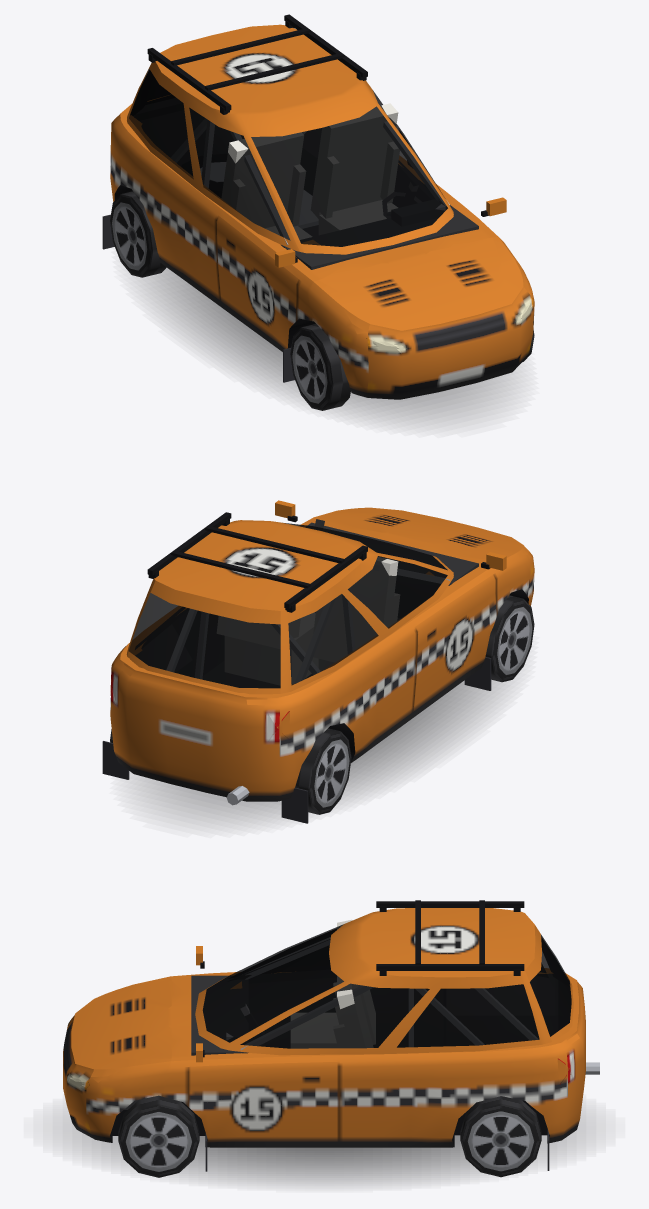
Rendered from pacoca.glb.
The picture shows the model from 3 angles, top to bottom: view 1: azimuth 30°, elevation 25°; view 2: azimuth 150°, elevation 25°; view 3: azimuth 270°, elevation 25°; orthographic projection. The views are drawn at different scales.
Visible parts, largest first — view 1: Carroceria, Interior, Capo_malha, Sombra, Porta_D_malha, Roda_DD, Roda_TD, Tampa_malha, Porta_E_malha; view 2: Carroceria, Tampa_malha, Interior, Sombra, Porta_D_malha, Capo_malha, Roda_TD, Roda_DD, Lanterna; view 3: Carroceria, Interior, Porta_E_malha, Sombra, Capo_malha, Roda_DE, Roda_TE, Tampa_malha, Porta_D_malha.
Boxes of the visible parts, x1,y1,x2,y2 form: Carroceria: (102, 14, 534, 399); Interior: (134, 98, 478, 269); Capo_malha: (318, 237, 528, 332); Sombra: (141, 268, 513, 423); Porta_D_malha: (216, 144, 299, 348); Roda_DD: (290, 324, 350, 410); Roda_TD: (110, 191, 166, 277); Tampa_malha: (130, 70, 175, 115); Porta_E_malha: (383, 111, 506, 216); Carroceria: (102, 510, 534, 823); Tampa_malha: (119, 580, 280, 780); Interior: (135, 519, 509, 687); Sombra: (135, 680, 505, 823); Porta_D_malha: (383, 552, 506, 709); Capo_malha: (318, 507, 528, 559); Roda_TD: (295, 728, 351, 814); Roda_DD: (485, 595, 534, 682); Lanterna: (110, 667, 289, 741); Carroceria: (63, 900, 599, 1171); Interior: (124, 919, 570, 1109); Porta_E_malha: (188, 987, 339, 1139); Sombra: (62, 1115, 586, 1184); Capo_malha: (77, 978, 171, 1076); Roda_DE: (118, 1095, 199, 1177); Roda_TE: (460, 1096, 541, 1177); Tampa_malha: (525, 925, 585, 1114); Porta_D_malha: (196, 929, 336, 977).
Size of the model in its own units: 2.26 by 1.58 by 4.43.
Materials: 13 (5 with a texture image).
